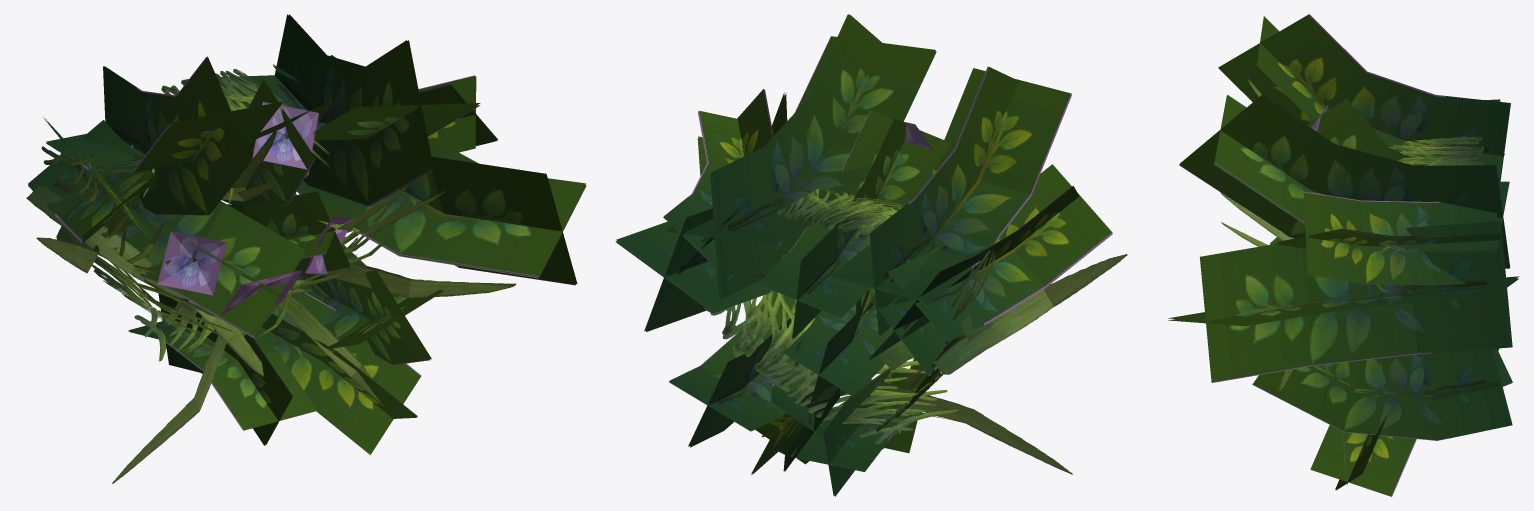
File: juqing_yewai_543_plant01.obj
The picture shows the model from 3 angles, left to right: view 1: azimuth 30°, elevation 25°; view 2: azimuth 150°, elevation 25°; view 3: azimuth 270°, elevation 25°; orthographic projection. The views are drawn at different scales.
Parts seen in each view (by area): view 1: juqing_yewai_543_plant01; view 2: juqing_yewai_543_plant01; view 3: juqing_yewai_543_plant01.
Part boxes in pixels (<box>): juqing_yewai_543_plant01: <box>26,14,586,483</box>; juqing_yewai_543_plant01: <box>615,14,1127,496</box>; juqing_yewai_543_plant01: <box>1168,14,1519,496</box>.
Bounding box in the file's own units: 624 × 526 × 420.
Materials: 2 (2 with a texture image).
